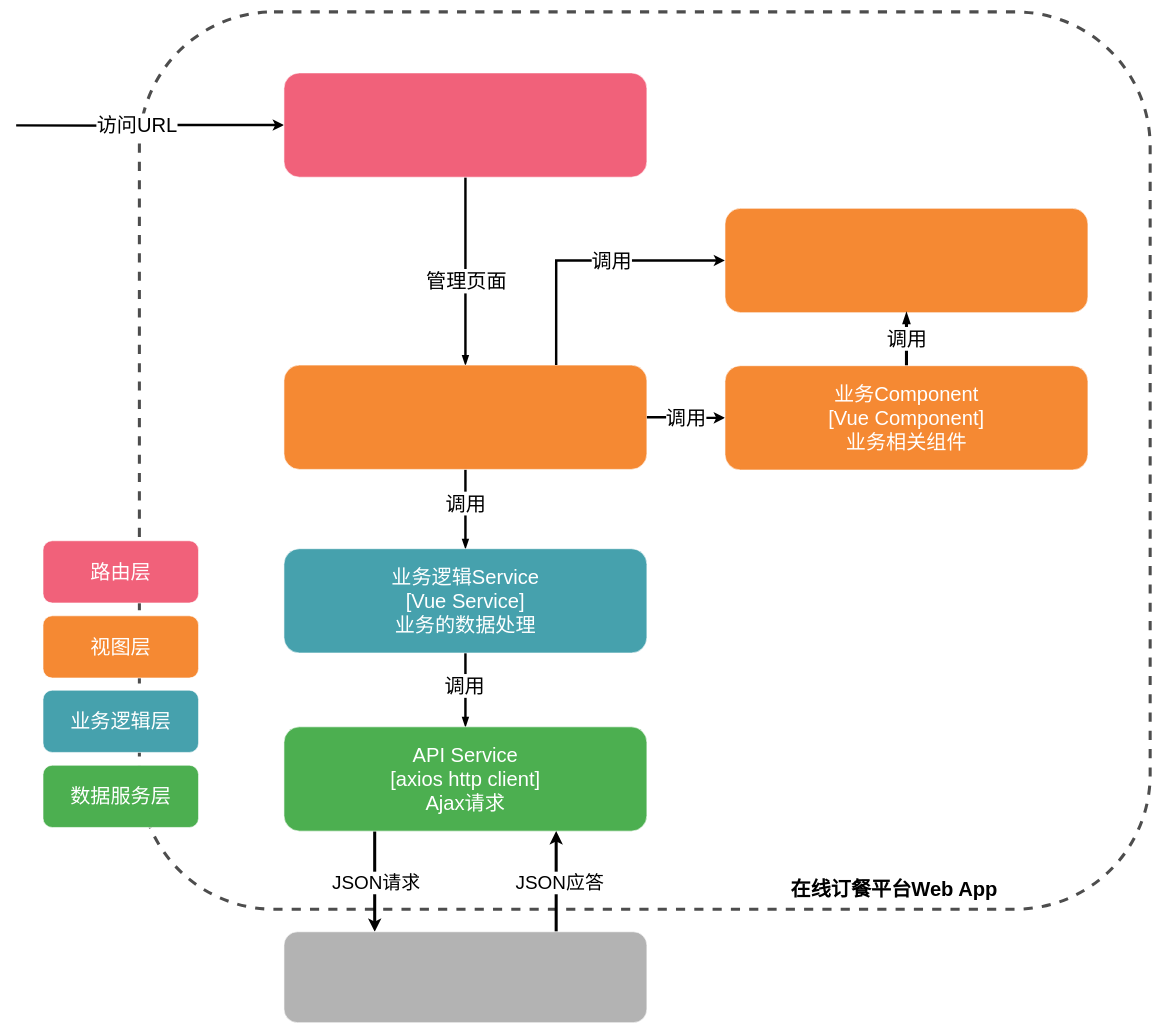
Some shapes in this 1162 by 1033 pixel diagram are drawn without their labels. The shapes that lost their labels are listed below. From the top down, each one's centre as x and y in pixels, then its label:
At [465,124]: "路由 [Vue Router] 页面路由划分".
At [906,260]: "UI Component [Vue Component ] 基础公共组件".
At [465,416]: "页面Component [Vue Component ] 用户操作的界面".
At [465,977]: "订餐平台 Web BFF 服务 [nodejs] 接口数据组装/权限校验".
